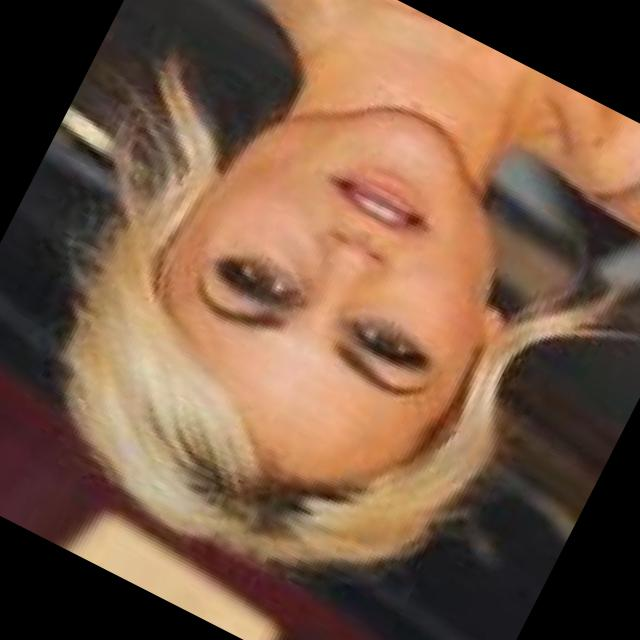bareface: (26, 20, 568, 596)
